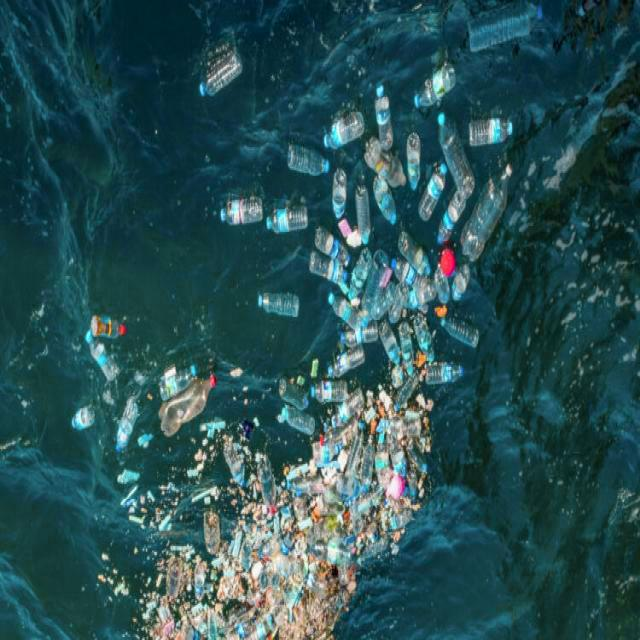Plastic: (461, 161, 516, 266), (154, 368, 220, 436), (460, 4, 549, 53), (341, 252, 400, 319), (430, 176, 480, 249), (193, 51, 251, 105), (355, 147, 412, 193), (313, 108, 367, 155), (413, 162, 452, 224), (413, 59, 458, 109), (438, 112, 467, 189), (283, 145, 336, 187), (208, 194, 268, 231), (81, 338, 128, 385), (372, 81, 402, 151), (110, 395, 143, 458), (440, 306, 487, 350), (264, 197, 310, 241), (394, 230, 436, 278), (322, 344, 372, 384), (468, 110, 520, 148), (249, 285, 309, 317), (315, 223, 355, 270), (153, 365, 200, 404), (325, 294, 372, 332), (310, 248, 350, 289), (64, 397, 104, 437), (404, 126, 427, 192), (353, 181, 376, 247), (369, 179, 400, 227), (305, 376, 351, 408), (401, 279, 435, 319), (394, 307, 416, 368), (378, 312, 401, 370), (279, 374, 315, 410), (85, 313, 138, 337), (279, 405, 321, 435), (329, 168, 350, 223), (410, 309, 433, 358), (450, 265, 478, 305), (418, 363, 473, 383)
